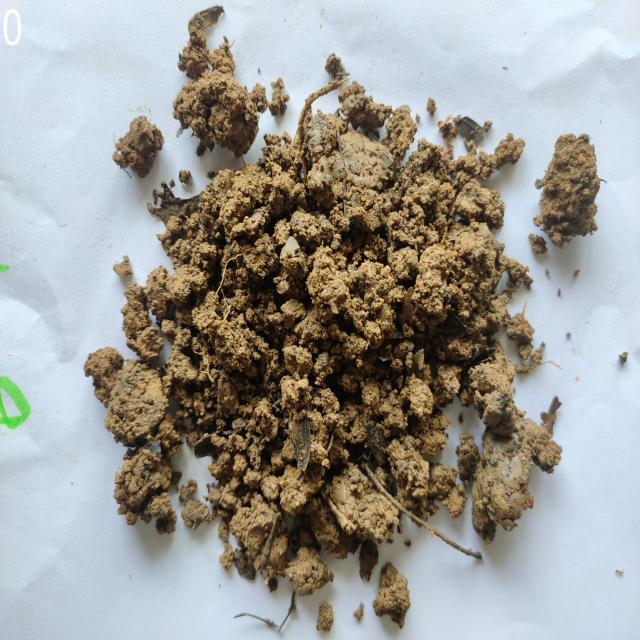soil: (232, 194, 419, 468)
